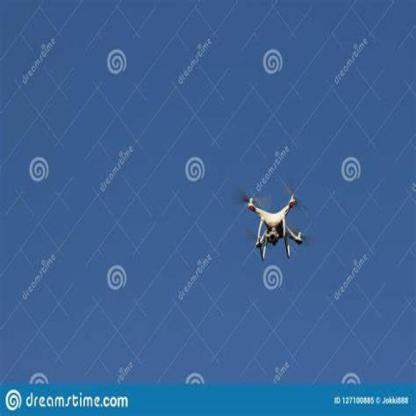drone: (237, 183, 309, 266)
